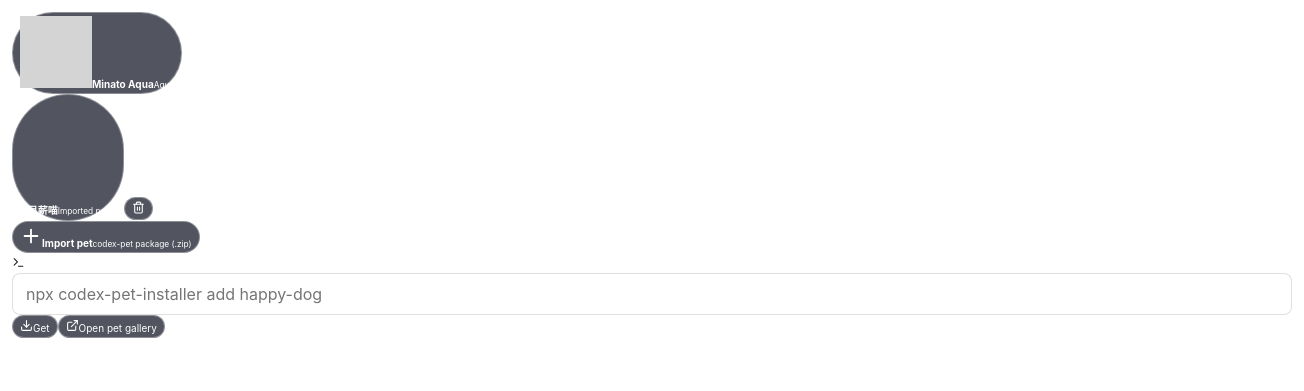
Test: PetThemeGrid removal › disarms when the control loses focus or Escape is pressed
Click the button named "Remove". click: (138, 208)
box: [124,197,153,220]
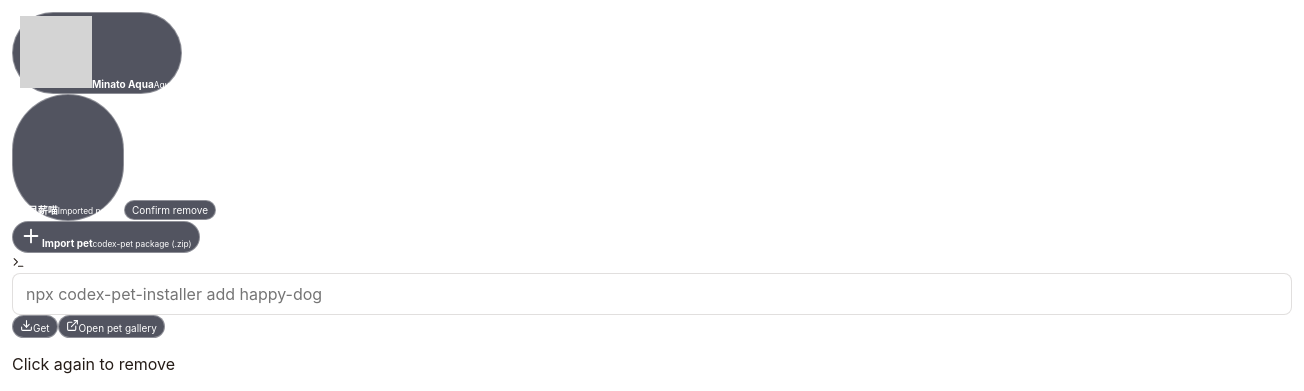
Leave the button "Confirm remove", box [124,200,216,220]
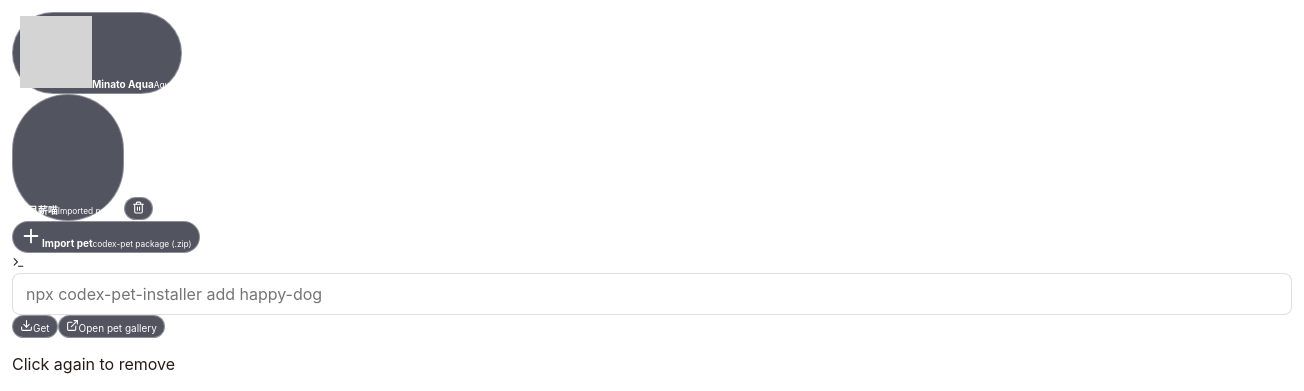
Now the text "Confirm remove" is gone
Click the button named "Remove". click: (138, 208)
box: [124,197,153,220]
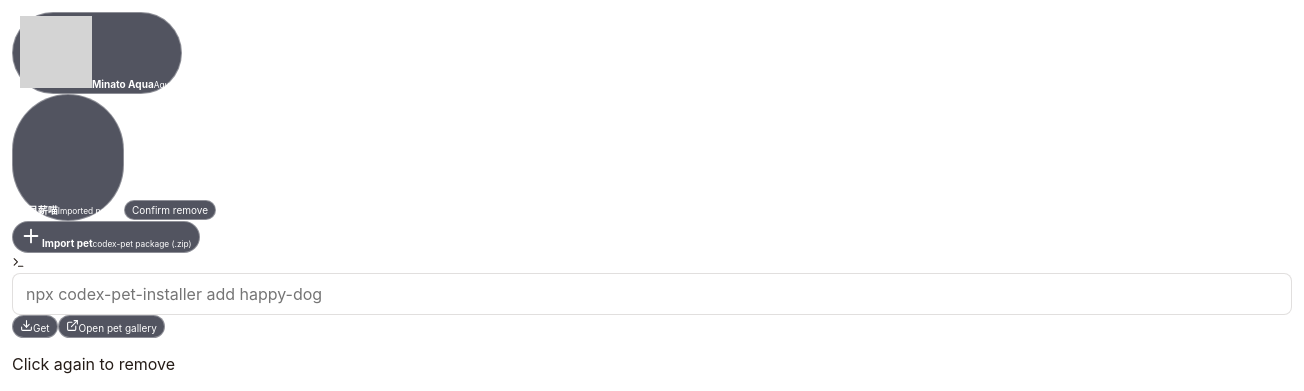
Press Escape in the button "Confirm remove", box [124,200,216,220]
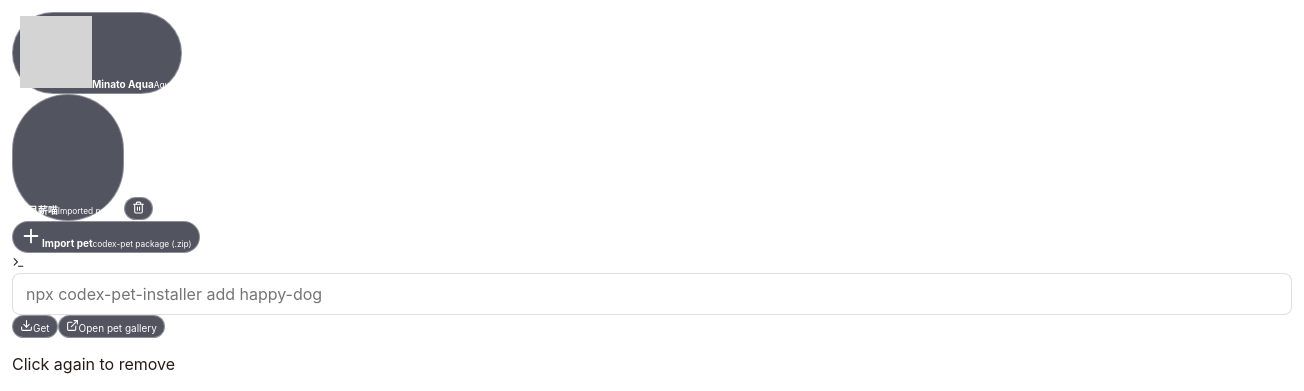
Now the text "Confirm remove" is gone
